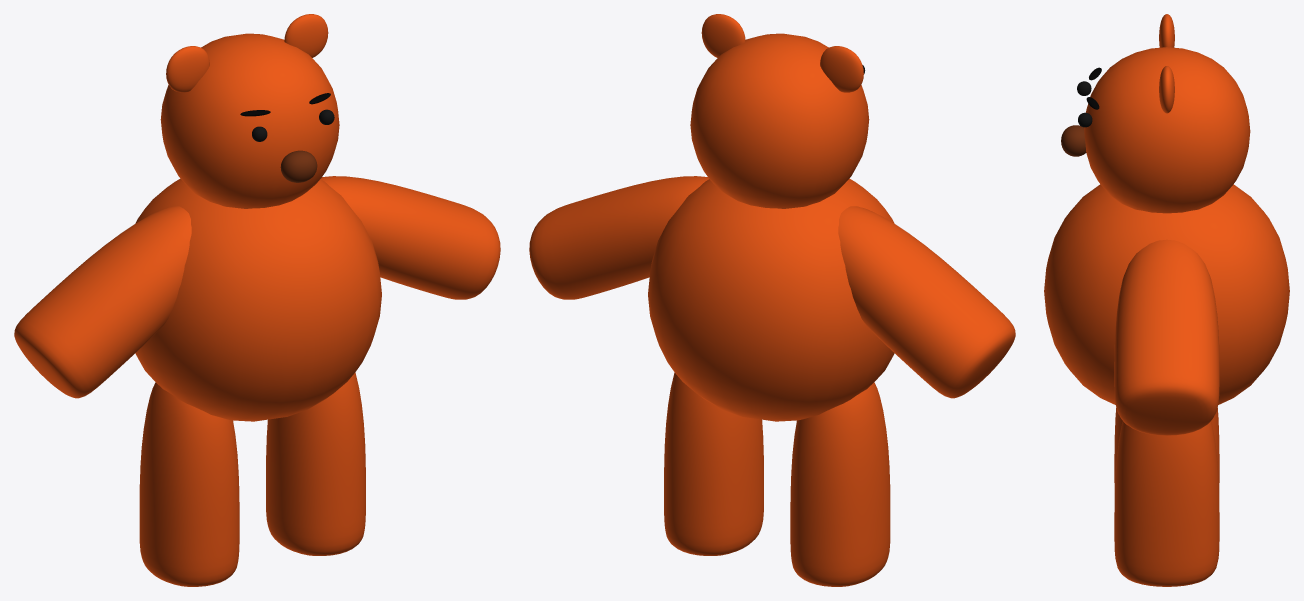
File: uploads_files_3037121_bear.fbx
3 renders of one model, left to right at view 1: azimuth 30°, elevation 25°; view 2: azimuth 150°, elevation 25°; view 3: azimuth 270°, elevation 25°, orthographic. The views are drawn at different scales.
Parts seen in each view (by area): view 1: Cube, Cube.001; view 2: Cube; view 3: Cube, Cube.001.
Boxes of the visible parts, x1,y1,x2,y2 form: Cube: [14, 14, 500, 586]; Cube.001: [240, 93, 334, 182]; Cube: [529, 14, 1015, 586]; Cube: [1044, 14, 1289, 586]; Cube.001: [1061, 67, 1101, 156].
Size of the model in its own units: 509 by 559 by 248.
